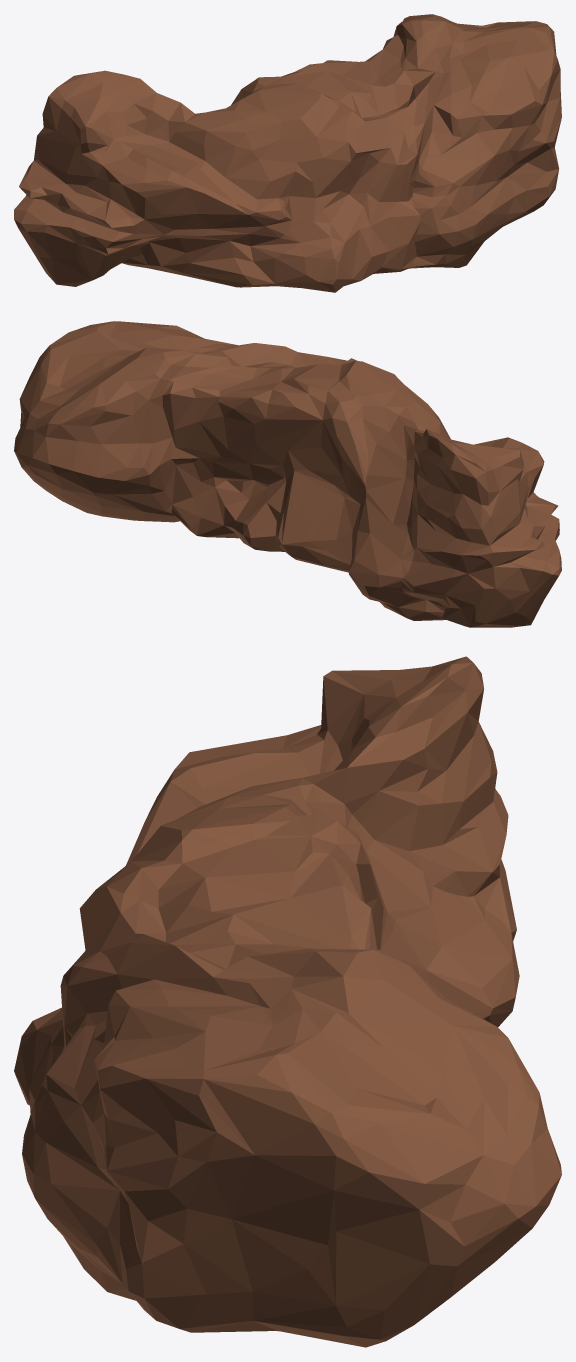
File: bg-mesa-a.glb
3 views of the same model, one above another, from view 1: azimuth 30°, elevation 25°; view 2: azimuth 150°, elevation 25°; view 3: azimuth 270°, elevation 25° (orthographic). The views are drawn at different scales.
Visible parts, largest first — view 1: SM_Env_Rock_Cliff_16; view 2: SM_Env_Rock_Cliff_16; view 3: SM_Env_Rock_Cliff_16.
Boxes of the visible parts, x1,y1,x2,y2 form: SM_Env_Rock_Cliff_16: [14, 14, 561, 292]; SM_Env_Rock_Cliff_16: [14, 321, 561, 627]; SM_Env_Rock_Cliff_16: [14, 656, 561, 1347].
Size of the model in its own units: 28.78 by 10.22 by 13.86.
Materials: 1 (1 with a texture image).
